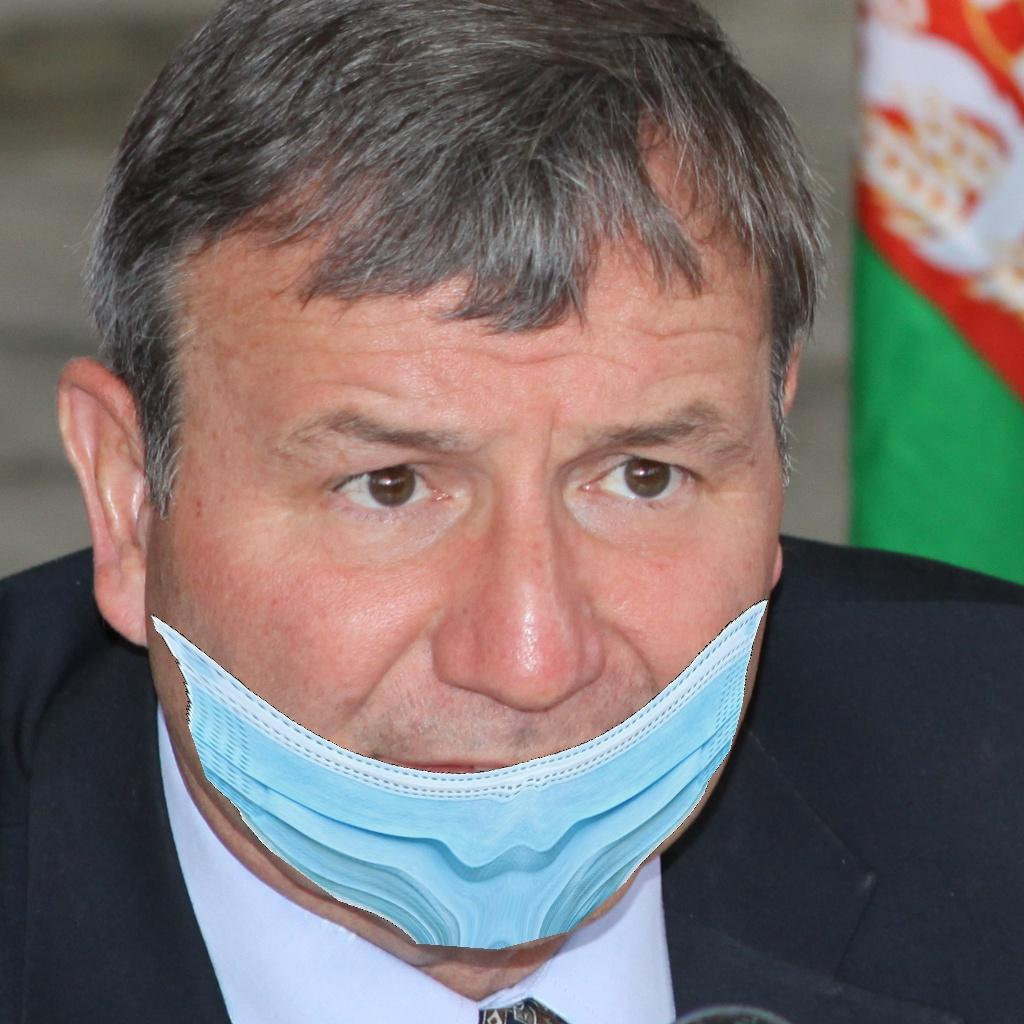Máscara Incorreta: (164, 226, 766, 945)
